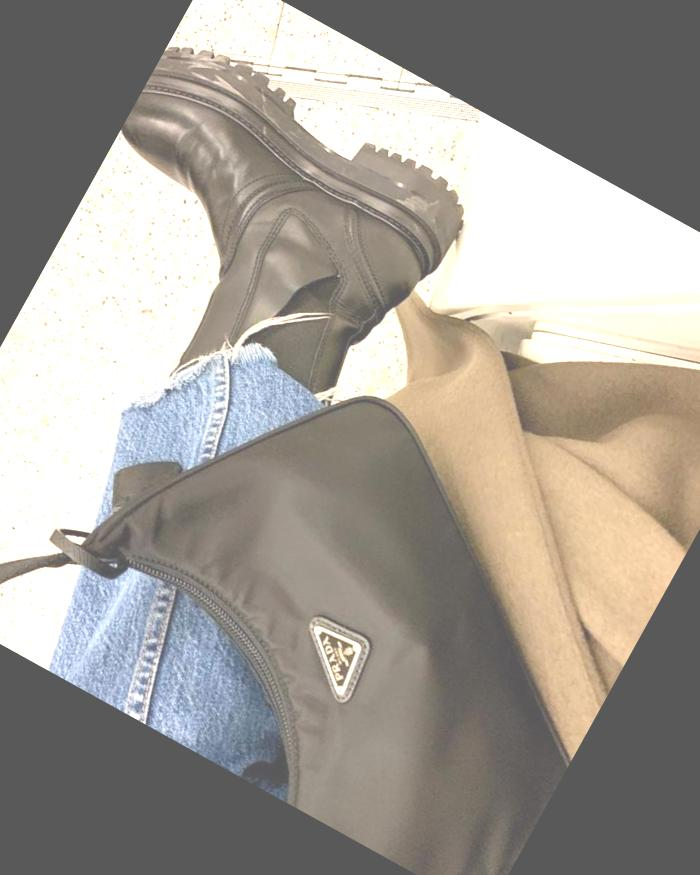PRADA: (292, 618, 368, 693)
